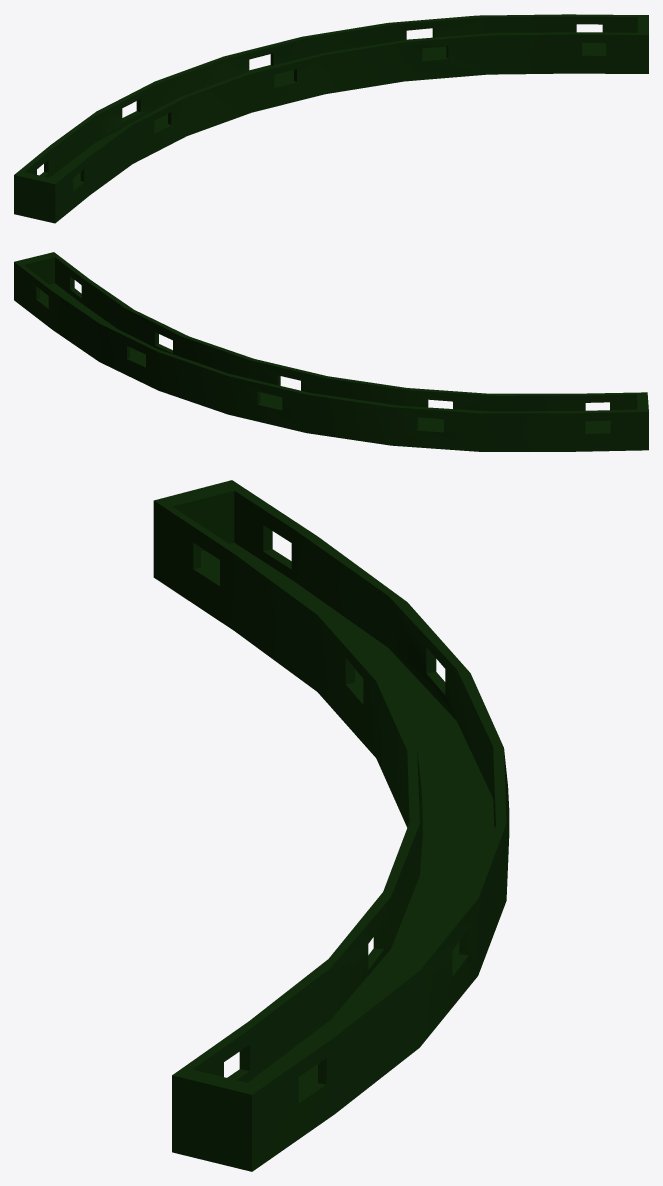
The model's file is wall-top-2.fbx.
3 views of the same model, one above another, from view 1: azimuth 30°, elevation 25°; view 2: azimuth 150°, elevation 25°; view 3: azimuth 270°, elevation 25° (orthographic). The views are drawn at different scales.
Parts seen in each view (by area): view 1: wall-top-2; view 2: wall-top-2; view 3: wall-top-2.
Boxes of the visible parts, box(x1,y1,x2,y2) form: wall-top-2: box(14, 14, 648, 223); wall-top-2: box(14, 252, 648, 451); wall-top-2: box(153, 480, 509, 1171).
Bounding box in the file's own units: 28.38 × 1.66 × 6.94.
